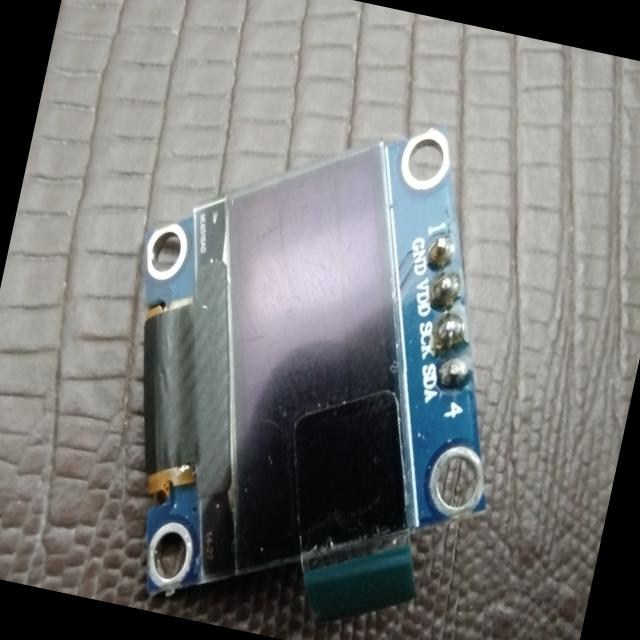oled: (55, 59, 580, 640)
